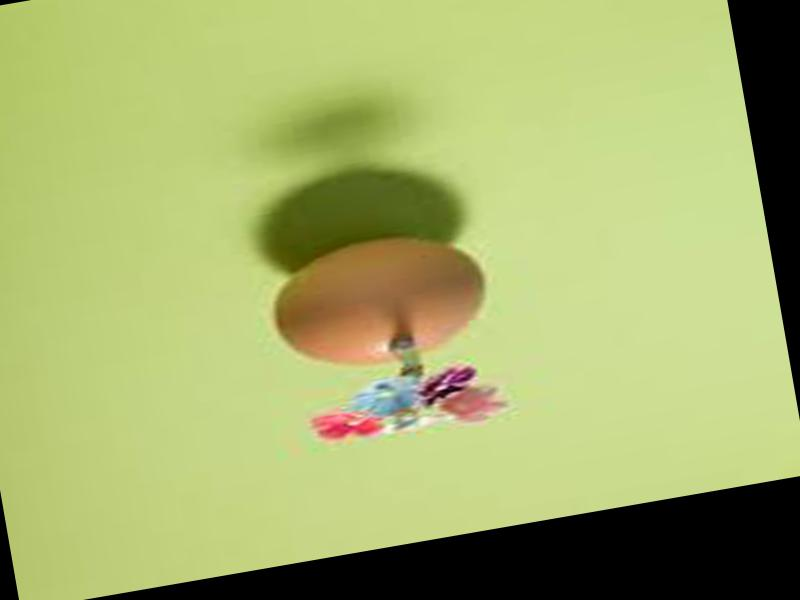Eggs: (266, 222, 494, 378)
